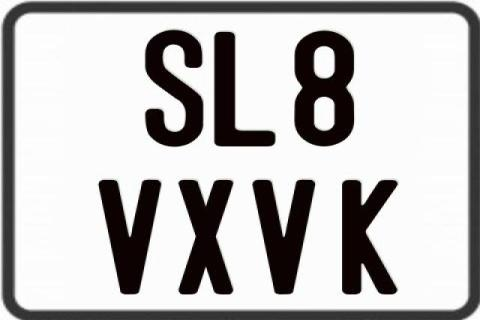0: (291, 29, 352, 149)
K: (341, 180, 398, 299)
L: (214, 31, 275, 145)
S: (144, 30, 208, 150)
V: (97, 178, 159, 294), (252, 179, 314, 295)
X: (177, 180, 231, 298)
